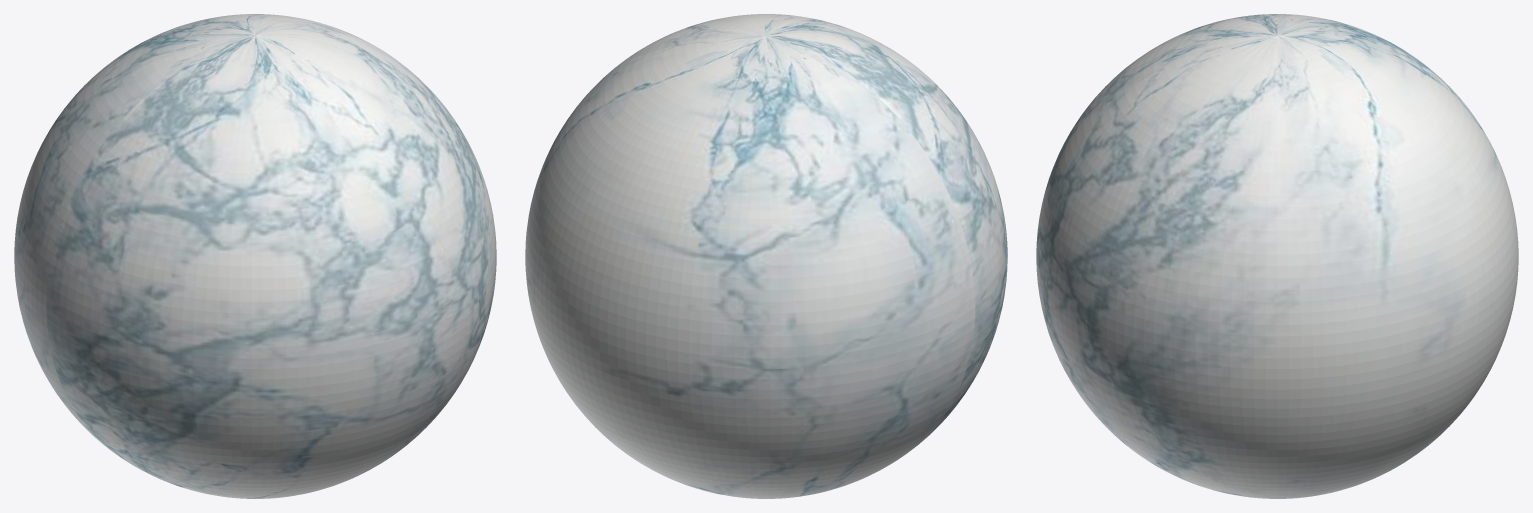
Rendered from marble.obj.
3 renders of one model, left to right at view 1: azimuth 30°, elevation 25°; view 2: azimuth 150°, elevation 25°; view 3: azimuth 270°, elevation 25°, orthographic.
Visible parts, largest first — view 1: Sphere; view 2: Sphere; view 3: Sphere.
Boxes of the visible parts, x1,y1,x2,y2 form: Sphere: (14,14,496,498); Sphere: (525,14,1007,498); Sphere: (1036,14,1518,498).
Bounding box in the file's own units: 1.97 × 2 × 1.97.
